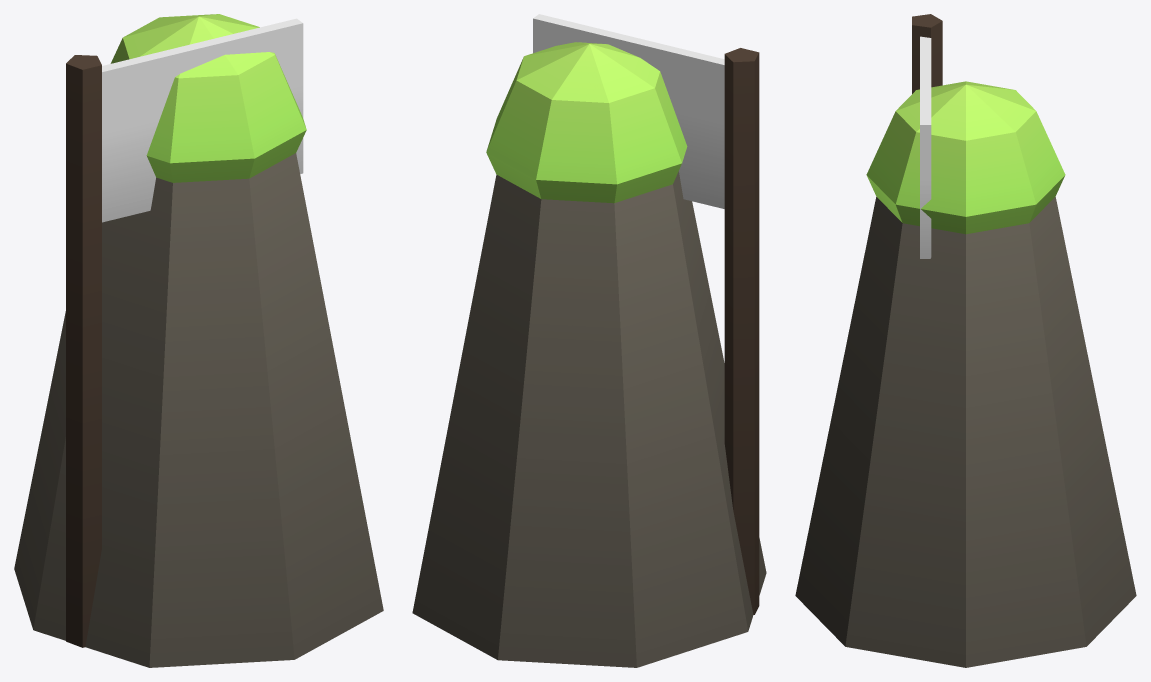
Rendered from WLISHORR.glb.
3 renders of one model, left to right at view 1: azimuth 30°, elevation 25°; view 2: azimuth 150°, elevation 25°; view 3: azimuth 270°, elevation 25°, orthographic. The views are drawn at different scales.
Visible parts, largest first — view 1: Body, Flag; view 2: Body, Flag; view 3: Body, Flag.
Part boxes in pixels (left/top/right/bottom): Body: left=14, top=14, right=383, bottom=667; Flag: left=102, top=18, right=303, bottom=222; Body: left=412, top=42, right=766, bottom=667; Flag: left=533, top=14, right=724, bottom=208; Body: left=795, top=14, right=1136, bottom=667; Flag: left=920, top=36, right=931, bottom=258.
Bounding box in the file's own units: 0.6 × 1 × 0.6.
1 material, 1 textured.
